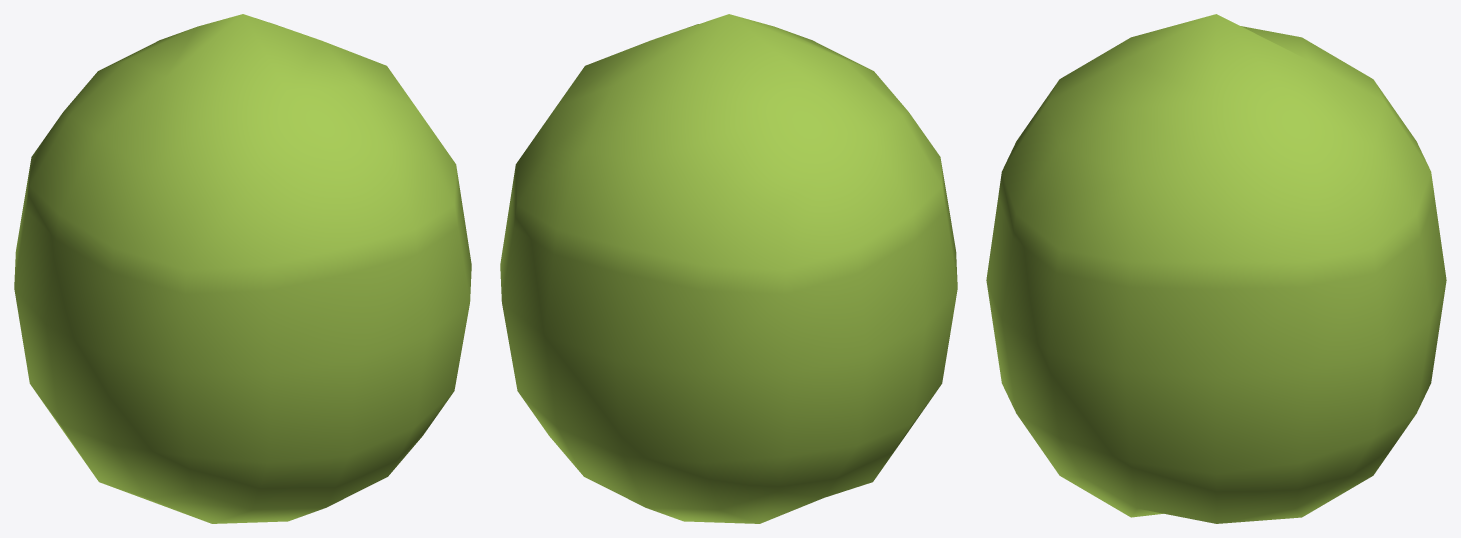
Rendered from Coconut.fbx.
3 renders of one model, left to right at view 1: azimuth 30°, elevation 25°; view 2: azimuth 150°, elevation 25°; view 3: azimuth 270°, elevation 25°, orthographic.
Visible parts, largest first — view 1: Coconut; view 2: Coconut; view 3: Coconut.
Part boxes in pixels (box(x1,y1,x2,y2)): Coconut: box(14, 14, 471, 523); Coconut: box(500, 14, 957, 523); Coconut: box(986, 14, 1446, 523).
Size of the model in its own units: 0.9138 by 1.05 by 0.9138.
